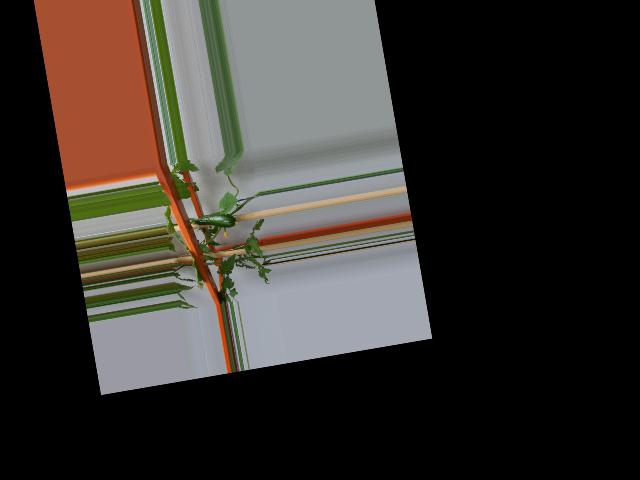cucumber: (195, 209, 240, 233)
